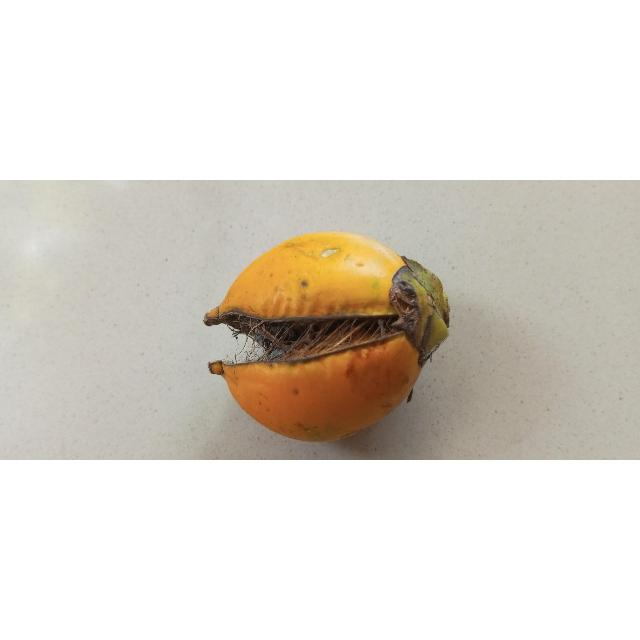damaged: (204, 232, 449, 443)
